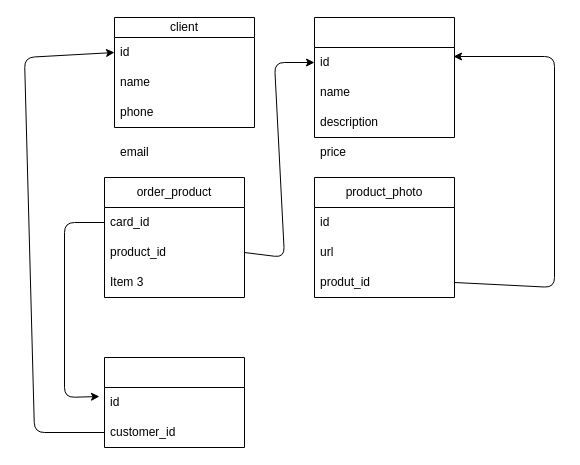
Image size: 580x465. Some labels were removed from this diagram. Each missing label, with the box of its shape:
order: (104, 356, 244, 448)
product: (314, 16, 454, 138)
